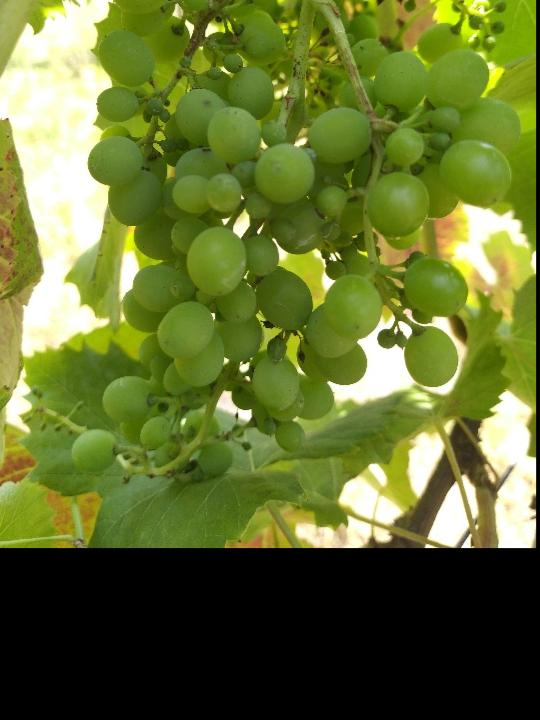grape: (65, 0, 521, 496)
